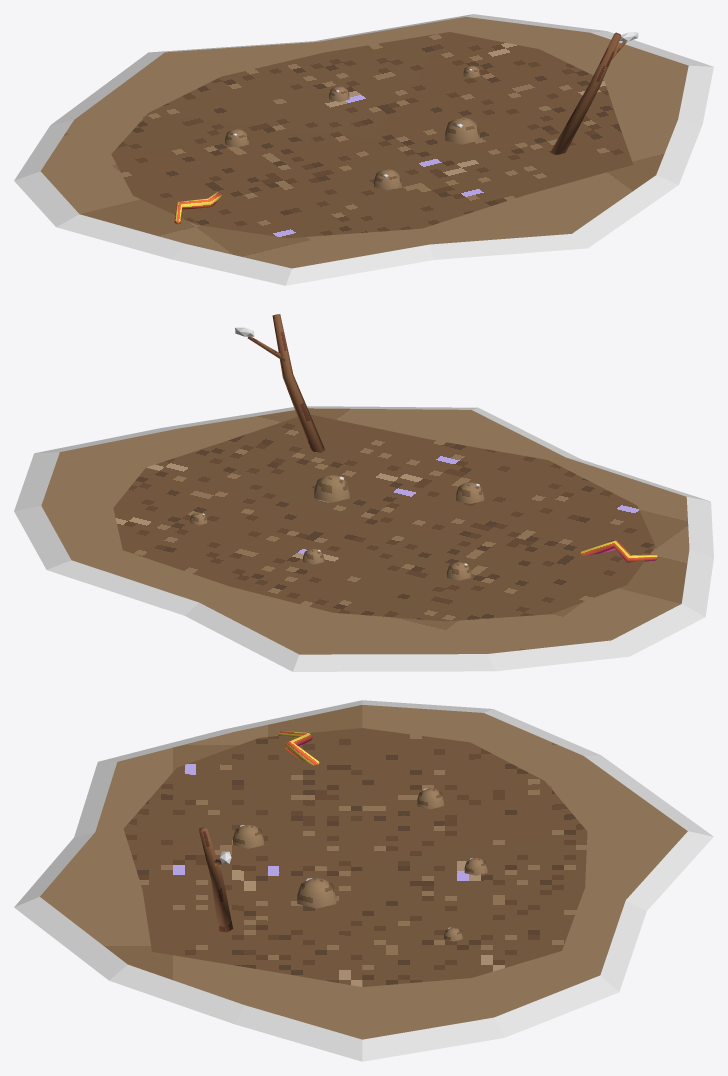
The model's file is Mud Puddle.fbx.
3 renders of one model, top to bottom at view 1: azimuth 30°, elevation 25°; view 2: azimuth 150°, elevation 25°; view 3: azimuth 270°, elevation 25°, orthographic. The views are drawn at different scales.
Parts seen in each view (by area): view 1: Mud Puddle mud, Mud Puddle rim, Mud Puddle edge 10, Mud Puddle edge 9, Mud Puddle edge 11, Mud Puddle edge 7, Mud Puddle edge 8, Mud Puddle edge 6, Mud Puddle edge 12, Mud Puddle stick, Mud Puddle edge 13, Mud Puddle edge 4 (+6 smaller); view 2: Mud Puddle mud, Mud Puddle rim, Mud Puddle edge 4, Mud Puddle edge 2, Mud Puddle edge 5, Mud Puddle edge 3, Mud Puddle edge 6, Mud Puddle edge 1, Mud Puddle stick, Mud Puddle edge 7, Mud Puddle edge 0, Mud Puddle edge 8 (+4 smaller); view 3: Mud Puddle mud, Mud Puddle rim, Mud Puddle edge 0, Mud Puddle edge 11, Mud Puddle edge 12, Mud Puddle edge 13, Mud Puddle edge 1, Mud Puddle edge 3, Mud Puddle edge 2, Mud Puddle edge 4, Mud Puddle edge 9, Mud Puddle stick (+8 smaller).
Boxes of the visible parts, box(x1,y1,x2,y2) form: Mud Puddle mud: box(111, 32, 633, 238); Mud Puddle rim: box(40, 17, 688, 268); Mud Puddle edge 10: box(429, 234, 587, 259); Mud Puddle edge 9: box(285, 244, 433, 285); Mud Puddle edge 11: box(572, 175, 678, 248); Mud Puddle edge 7: box(56, 214, 185, 259); Mud Puddle edge 8: box(171, 244, 291, 285); Mud Puddle edge 6: box(14, 171, 78, 226); Mud Puddle edge 12: box(656, 119, 702, 184); Mud Puddle stick: box(550, 32, 621, 154); Mud Puddle edge 13: box(678, 65, 713, 124); Mud Puddle edge 4: box(51, 52, 164, 124); Mud Puddle mud: box(113, 414, 655, 621); Mud Puddle rim: box(41, 408, 689, 654); Mud Puddle edge 4: box(293, 654, 494, 671); Mud Puddle edge 2: box(47, 560, 198, 615); Mud Puddle edge 5: box(487, 640, 629, 671); Mud Puddle edge 3: box(185, 603, 299, 671); Mud Puddle edge 6: box(612, 604, 705, 656); Mud Puddle edge 1: box(14, 506, 70, 569); Mud Puddle stick: box(272, 314, 324, 451); Mud Puddle edge 7: box(681, 549, 713, 616); Mud Puddle edge 0: box(14, 452, 59, 511); Mud Puddle edge 8: box(686, 497, 713, 557); Mud Puddle mud: box(124, 728, 587, 986); Mud Puddle rim: box(40, 705, 687, 1039); Mud Puddle edge 0: box(362, 1017, 504, 1061); Mud Puddle edge 11: box(14, 897, 127, 980); Mud Puddle edge 12: box(109, 964, 243, 1024); Mud Puddle edge 13: box(235, 1005, 362, 1061); Mud Puddle edge 1: box(494, 975, 618, 1037); Mud Puddle edge 3: box(626, 831, 713, 910); Mud Puddle edge 2: box(600, 900, 646, 991); Mud Puddle edge 4: box(583, 755, 713, 836); Mud Puddle edge 9: box(74, 761, 117, 837); Mud Puddle stick: box(199, 826, 232, 932).
Bounding box in the file's own units: 1.88 × 0.3438 × 1.54.
Materials: 8 (5 with a texture image).
